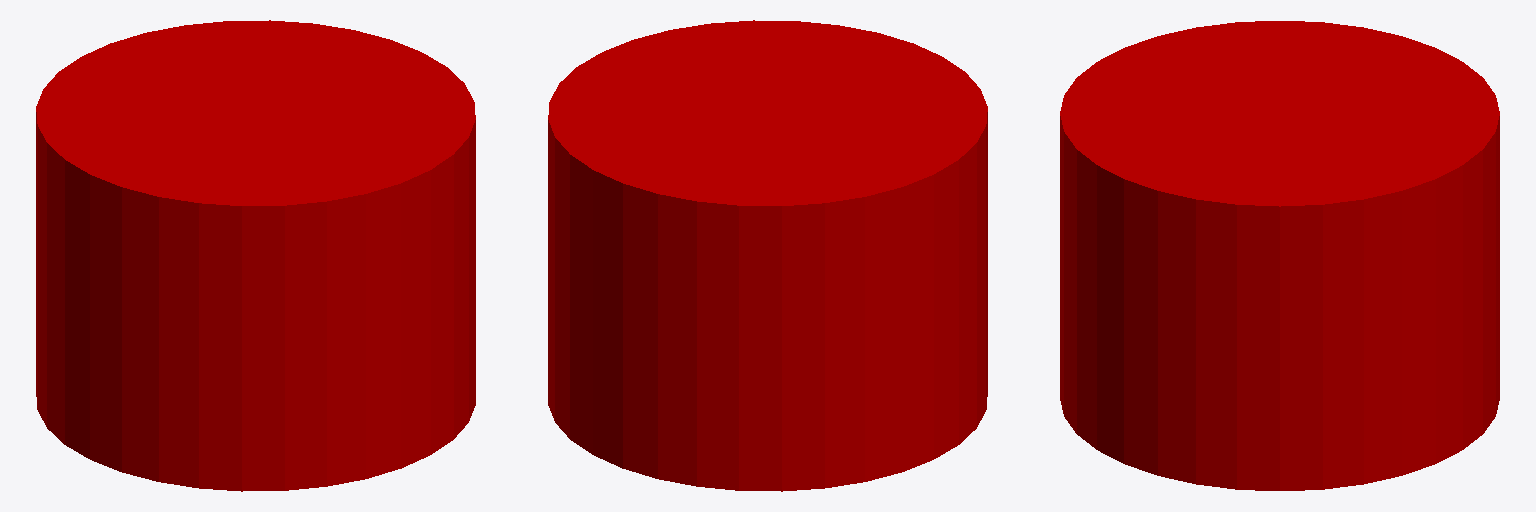
robot.urdf — disc:
<robot name="disc">
    <material name="red">
        <color rgba="0.8 0.0 0.0 1.0" />
    </material>
    <link name="base_link">
        <contact>
            <lateral_friction value="1.0" />
            <rolling_friction value="0.001" />
            <contact_cfm value="0.0" />
            <contact_erp value="1.0" />
        </contact>
        <inertial>
            <origin rpy="0 0 0" xyz="0.0 0.0 0.0" />
            <mass value=".1" />
            <inertia ixx="1" ixy="0" ixz="0" iyy="1" iyz="0" izz="1" />
        </inertial>
        <visual>
            <origin rpy="0 0 0" xyz="0 0 0" />
            <geometry>
                <cylinder length="0.005" radius="0.0035" />
            </geometry>
            <material name="red" />
        </visual>
        <collision>
            <origin rpy="0 0 0" xyz="0 0 0" />
            <geometry>
                <cylinder length="0.005" radius="0.0035" />
            </geometry>
        </collision>
    </link>
</robot>

--- Facts derived from the render (not from the file) ---
3 views of the same robot in one strip: view 1: azimuth 30°, elevation 25°; view 2: azimuth 150°, elevation 25°; view 3: azimuth 270°, elevation 25° (orthographic).
Model disc with 1 links and 0 joints (none), rooted at base_link, posed every joint at zero.
Visible links, largest first — view 1: base_link; view 2: base_link; view 3: base_link.
Link boxes in pixels (x1,y1,x2,y2): base_link: [36, 20, 475, 491]; base_link: [548, 20, 987, 491]; base_link: [1060, 21, 1499, 490].
Size in the robot's own frame: 0.007 by 0.007 by 0.005 metres.
Geometry: primitives only (box / cylinder / sphere), no mesh files.